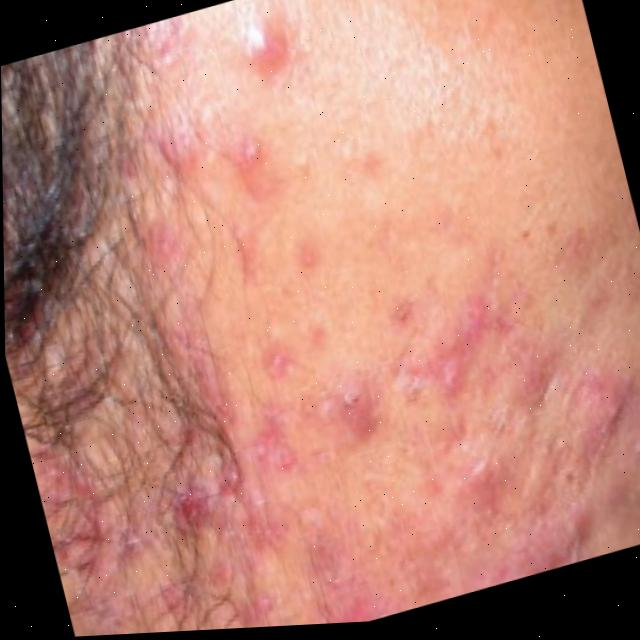Acne: (60, 0, 640, 637)
